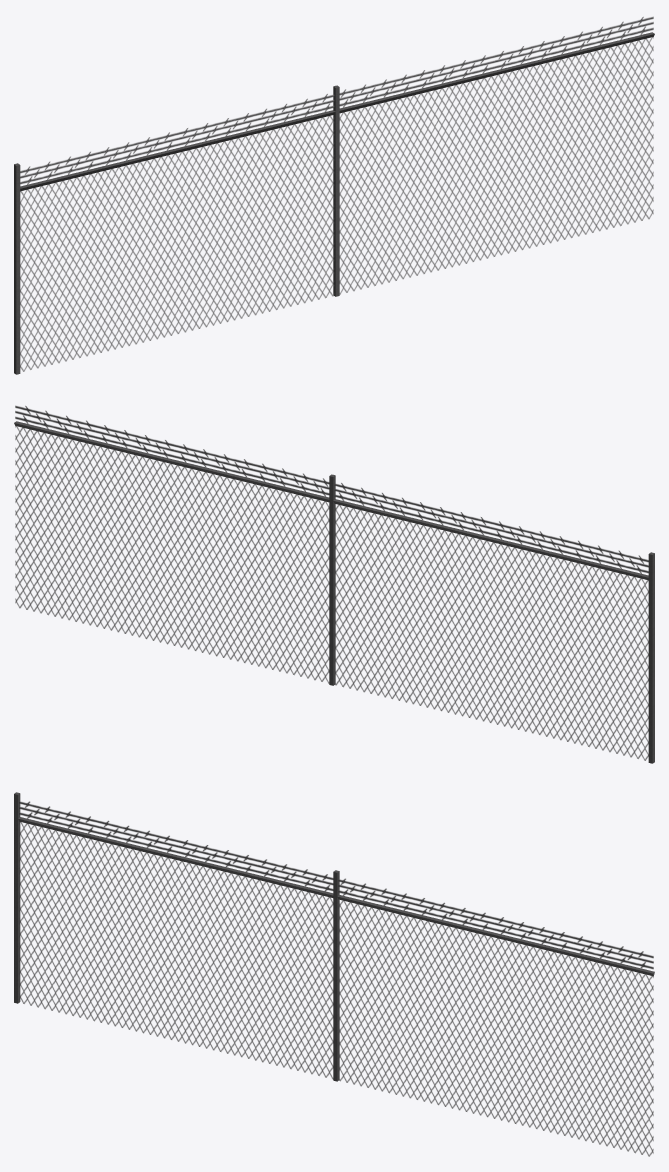
File: MFence2.glb
3 views of the same model, one above another, from view 1: azimuth 30°, elevation 25°; view 2: azimuth 150°, elevation 25°; view 3: azimuth 330°, elevation 25° (orthographic).
Visible parts, largest first — view 1: _MFence2; view 2: _MFence2; view 3: _MFence2.
Part boxes in pixels (x1,y1,x2,y2): _MFence2: (14,16,654,374); _MFence2: (14,405,654,763); _MFence2: (14,792,654,1156).
Size of the model in its own units: 16 by 5 by 0.104.
1 material, 1 textured.
